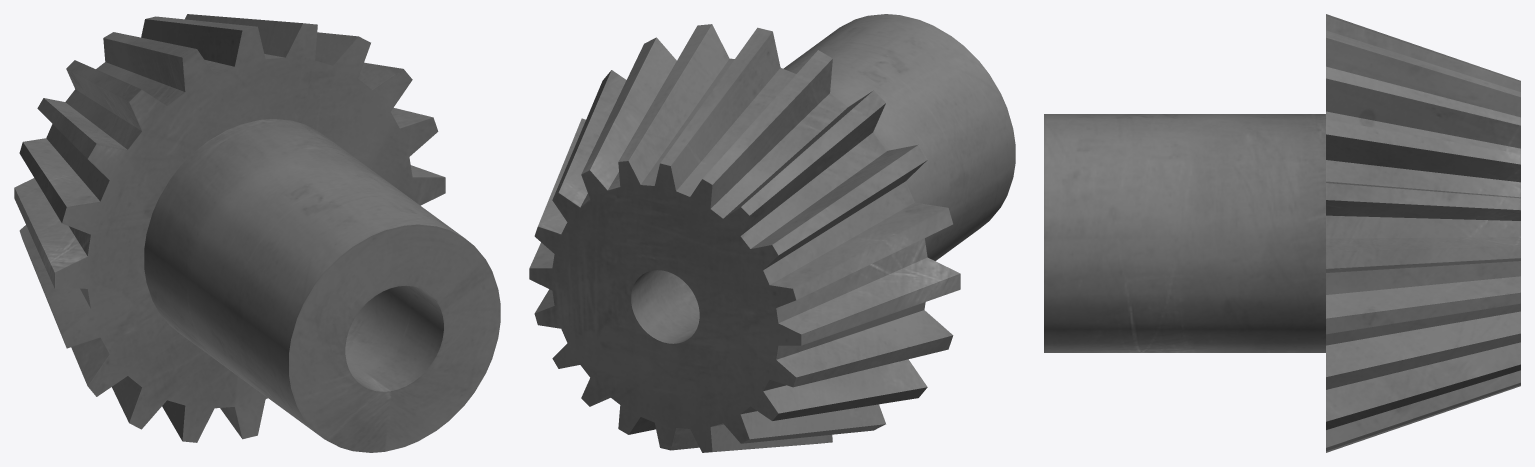
The model's file is second_gear.glb.
The picture shows the model from 3 angles, left to right: view 1: azimuth 30°, elevation 25°; view 2: azimuth 150°, elevation 25°; view 3: azimuth 270°, elevation 25°; orthographic projection. The views are drawn at different scales.
Parts seen in each view (by area): view 1: pGear2; view 2: pGear2; view 3: pGear2.
Boxes of the visible parts, x1,y1,x2,y2 form: pGear2: (14, 14, 500, 452); pGear2: (529, 14, 1015, 452); pGear2: (1044, 14, 1520, 452).
Size of the model in its own units: 1.26 by 1.26 by 1.37.
Materials: 1 (1 with a texture image).
